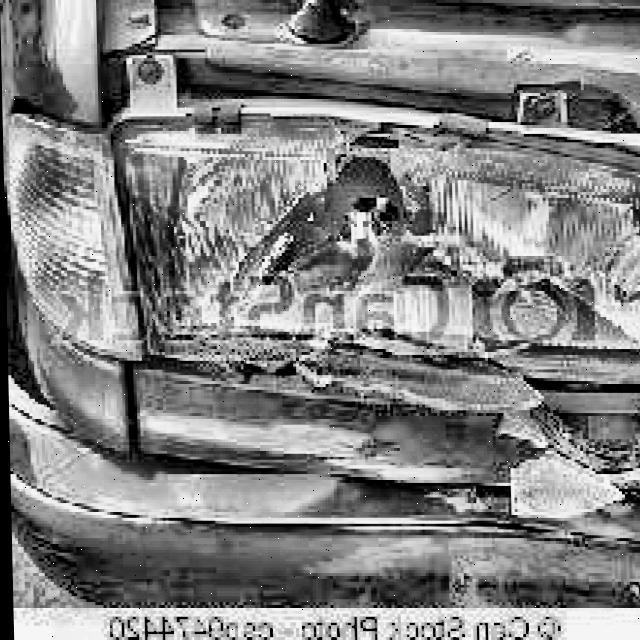head_lamp: (198, 143, 611, 338)
